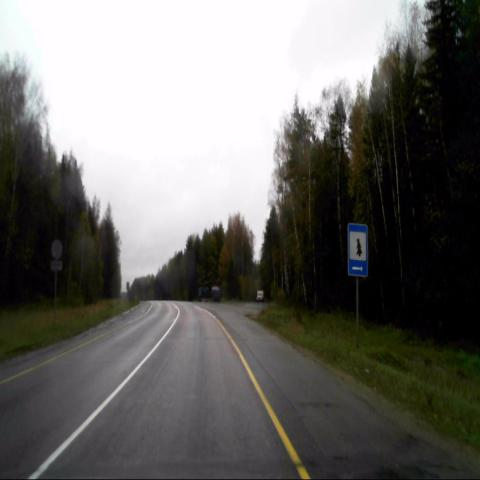7_11: (346, 224, 370, 281)
